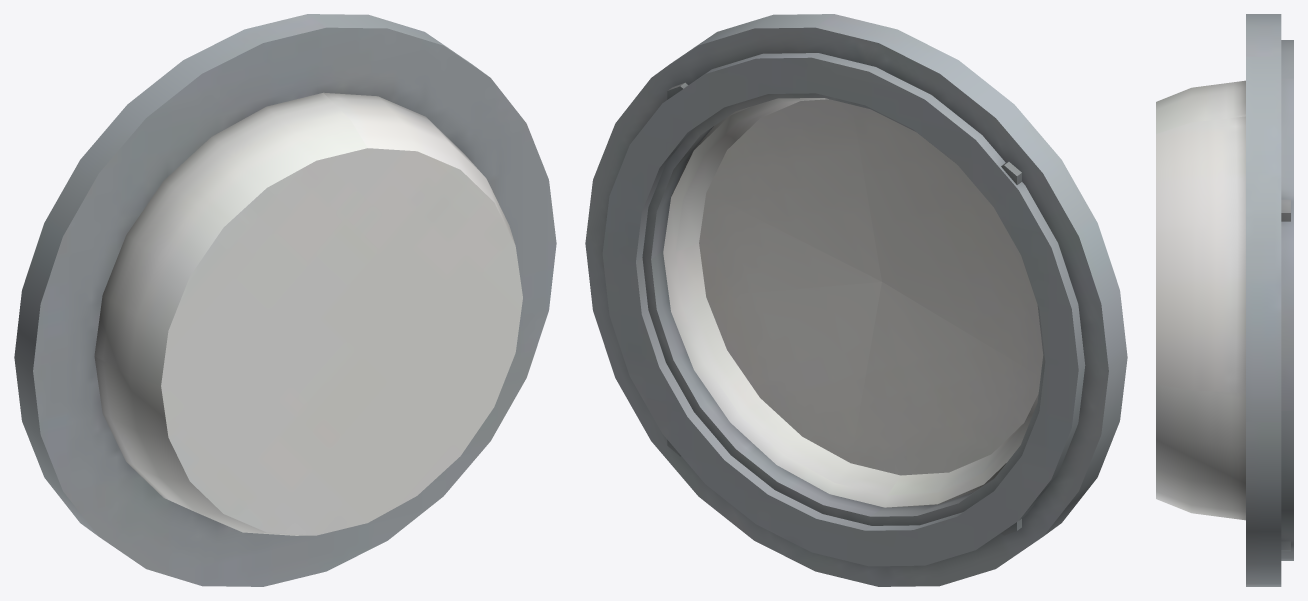
The model's file is pool_light.glb.
The picture shows the model from 3 angles, left to right: view 1: azimuth 30°, elevation 25°; view 2: azimuth 150°, elevation 25°; view 3: azimuth 270°, elevation 25°; orthographic projection. The views are drawn at different scales.
Visible parts, largest first — view 1: pool_light; view 2: pool_light; view 3: pool_light.
Boxes of the visible parts, left/top/right/bottom form: pool_light: left=14, top=14, right=556, bottom=586; pool_light: left=585, top=14, right=1127, bottom=586; pool_light: left=1156, top=14, right=1293, bottom=586.
Size of the model in its own units: 0.486 by 0.4824 by 0.1165.
1 material, 1 textured.
